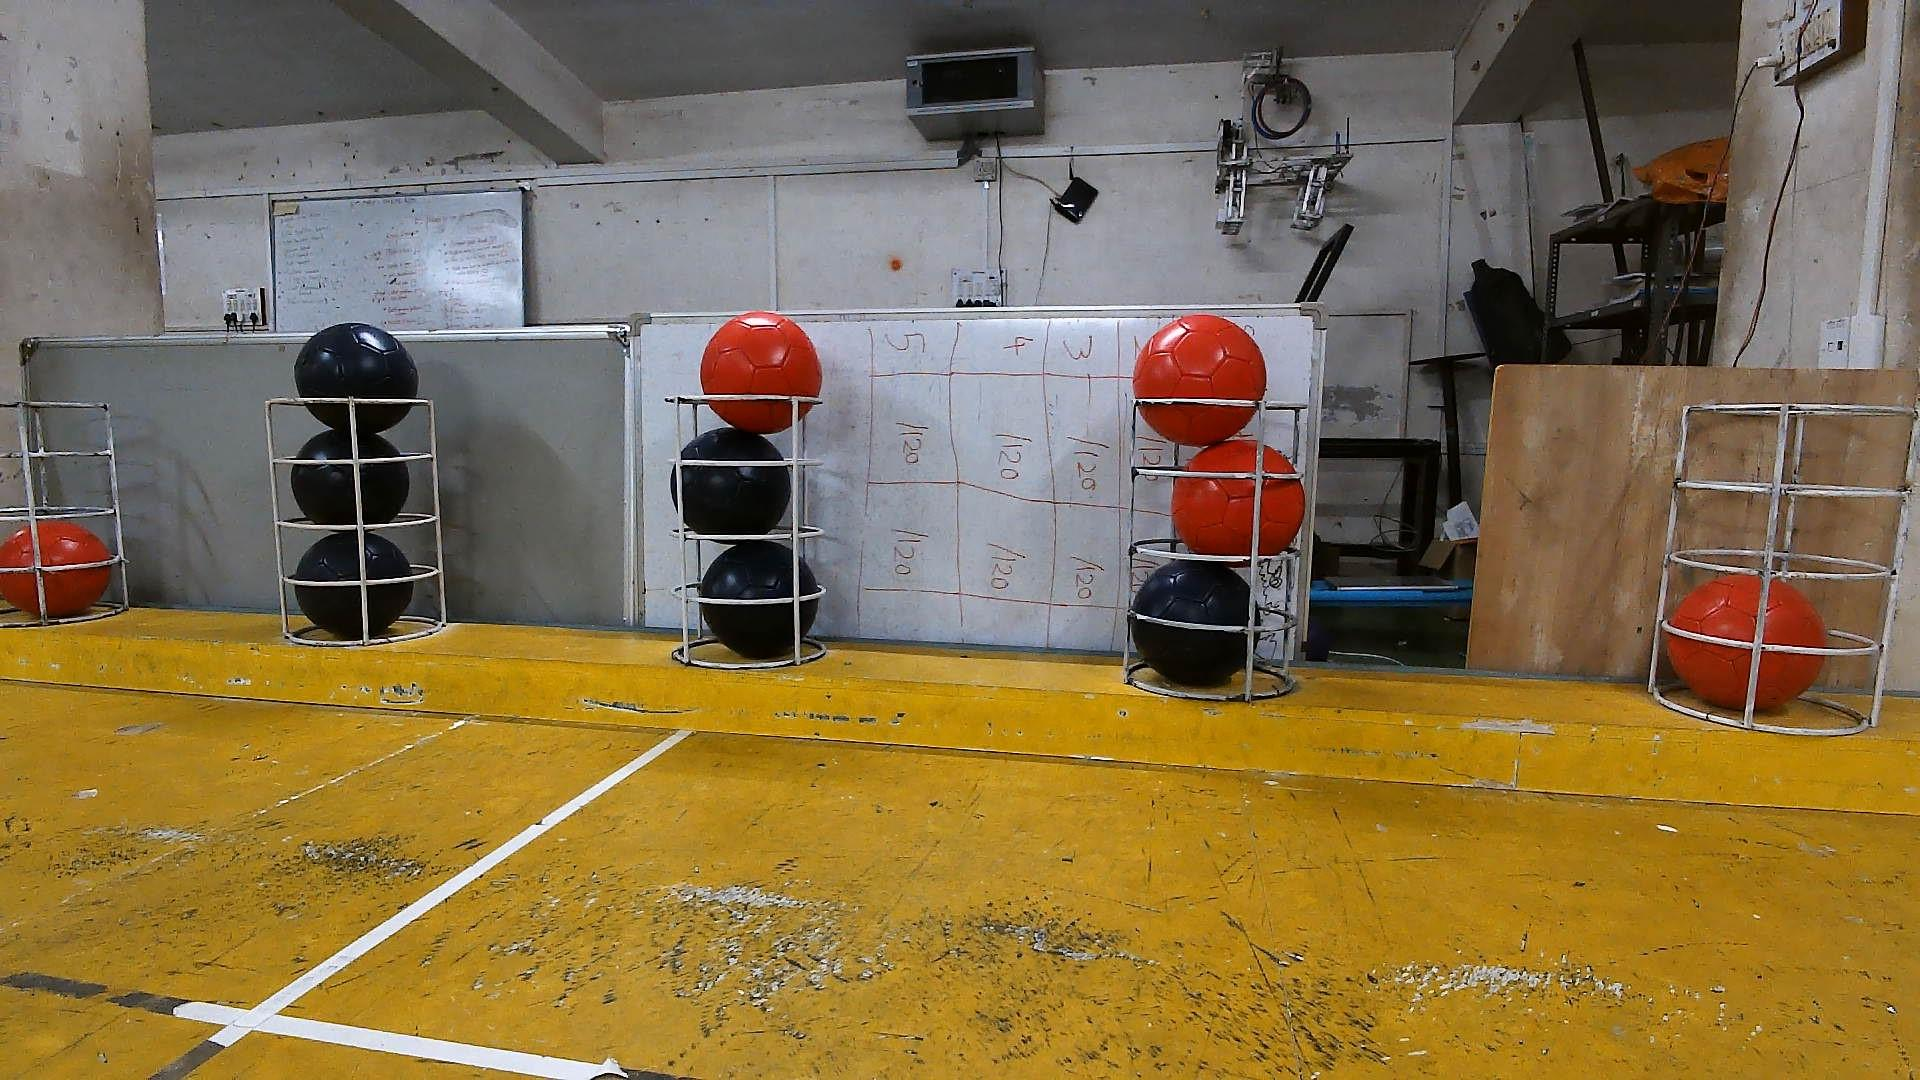dhoka: (1133, 559, 1261, 686), (293, 323, 419, 435), (702, 541, 822, 657), (671, 427, 791, 537), (293, 533, 413, 641), (293, 431, 413, 525)
laale: (1665, 574, 1830, 712), (1133, 315, 1267, 446), (1170, 435, 1305, 555), (702, 311, 822, 435), (0, 517, 112, 618)
